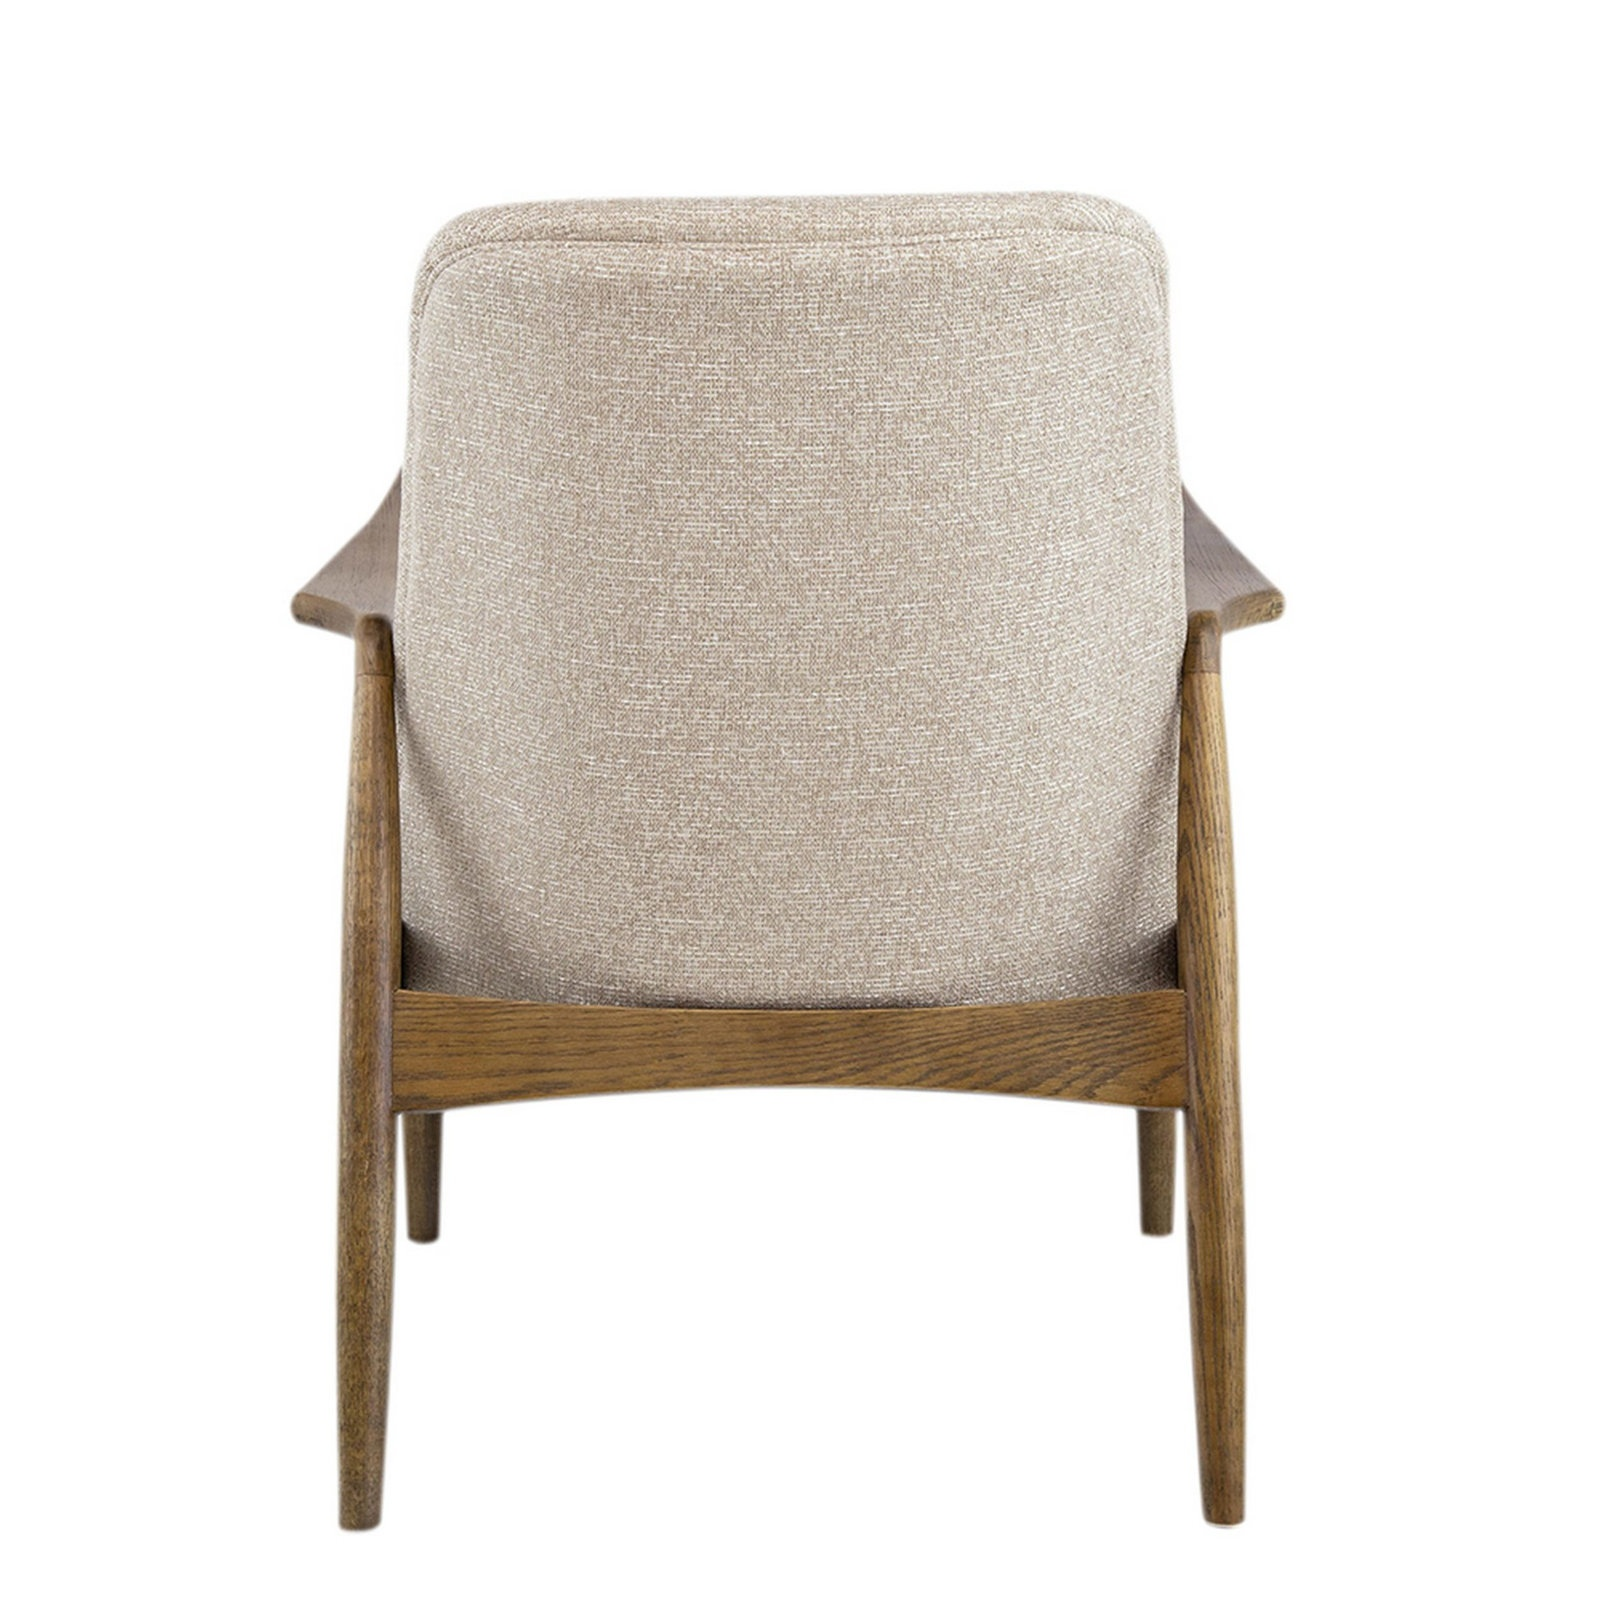obstacle: (295, 193, 1279, 1528)
